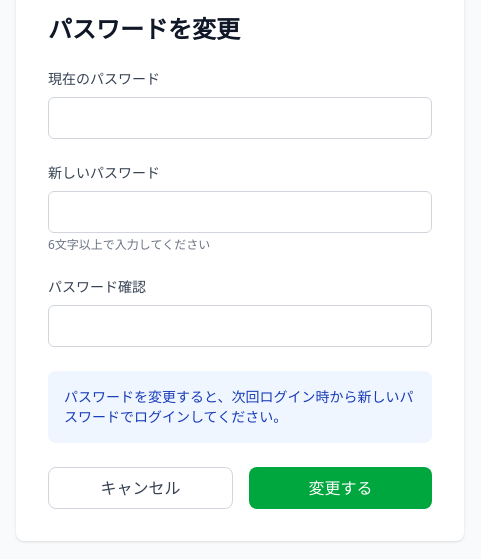
Scenario: ChangePassword › 送信中はボタンが非活性化されること
Step 1. Type "oldPassword123" into the password field labelled "現在のパスワード" → [240, 118], box x1=48 y1=97 x2=432 y2=139
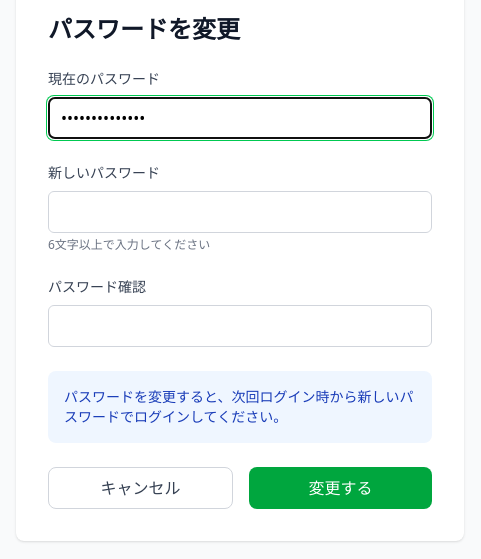
Step 2. Type "newPassword456" into the password field labelled "新しいパスワード" → [240, 212], box x1=48 y1=191 x2=432 y2=233
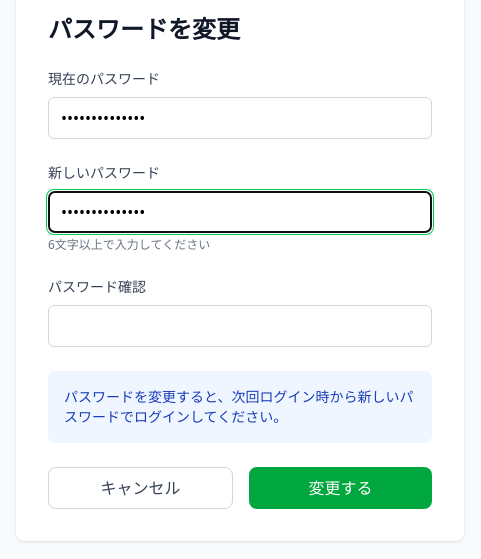
Step 3. Type "newPassword456" into the password field labelled "パスワード確認" → [240, 326], box x1=48 y1=305 x2=432 y2=347
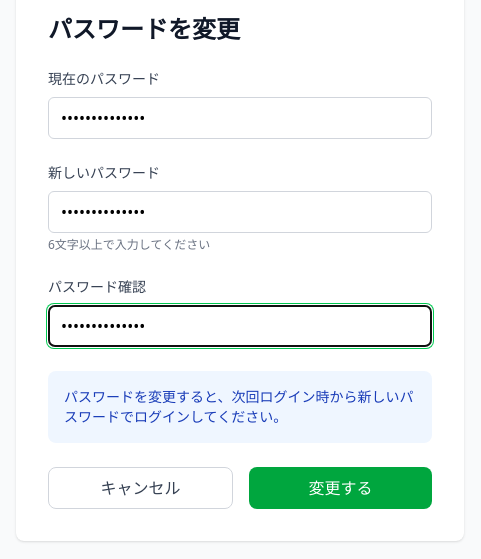
Step 4. Click the button "変更する" → [340, 488], box x1=249 y1=467 x2=432 y2=509
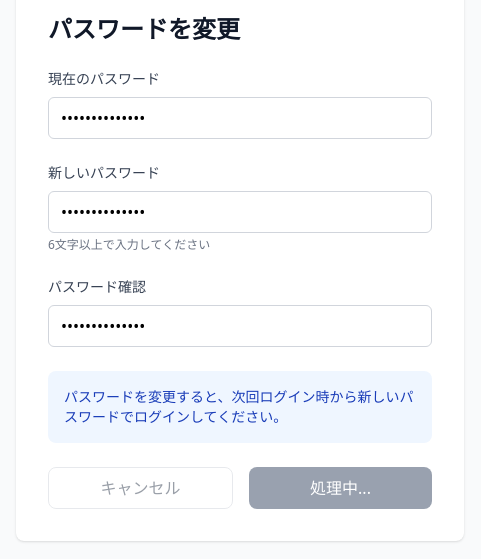
Expected: the password field labelled "現在のパスワード" is disabled, x1=48 y1=97 x2=432 y2=139
Expected: the button named "変更する" reads "処理中...", x1=249 y1=467 x2=432 y2=509
Expected: the button "キャンセル" is disabled, x1=48 y1=467 x2=233 y2=509
